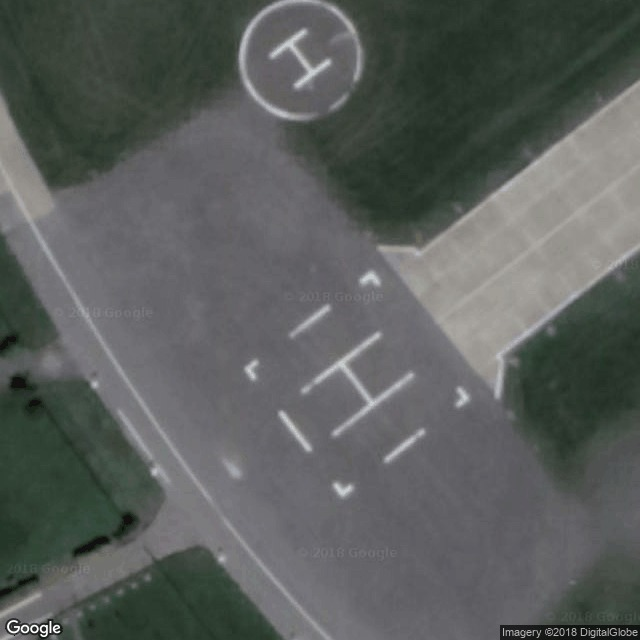heliport: (283, 323, 418, 444), (253, 17, 339, 92)
